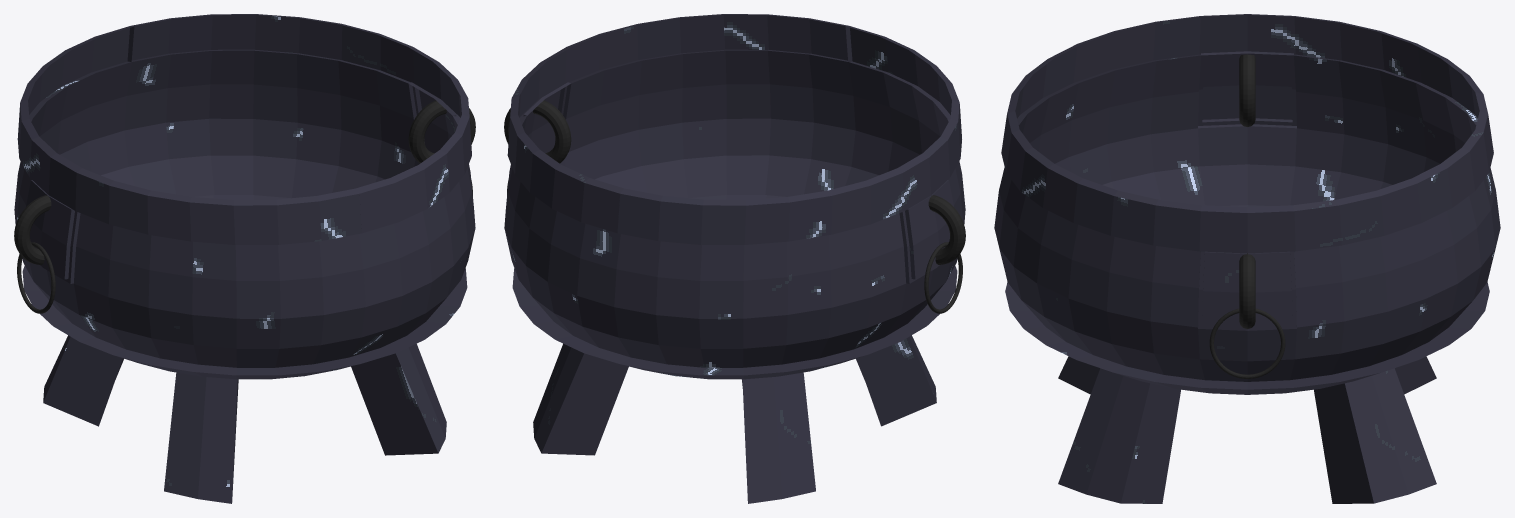
File: cauldron.glb
The picture shows the model from 3 angles, left to right: view 1: azimuth 30°, elevation 25°; view 2: azimuth 150°, elevation 25°; view 3: azimuth 270°, elevation 25°; orthographic projection. The views are drawn at different scales.
Visible parts, largest first — view 1: Sphere, Torus, Torus.001; view 2: Sphere, Torus, Torus.001; view 3: Sphere, Torus, Torus.001.
Boxes of the visible parts, box(x1,y1,x2,y2) form: Sphere: box(14, 14, 475, 503); Torus: box(14, 100, 475, 264); Torus.001: box(17, 180, 472, 313); Sphere: box(504, 14, 965, 503); Torus: box(504, 100, 965, 264); Torus.001: box(507, 180, 962, 313); Sphere: box(994, 14, 1500, 503); Torus: box(1239, 54, 1255, 328); Torus.001: box(1209, 308, 1285, 378).
Size of the model in its own units: 2.49 by 1.68 by 2.27.
2 materials, 1 textured.
